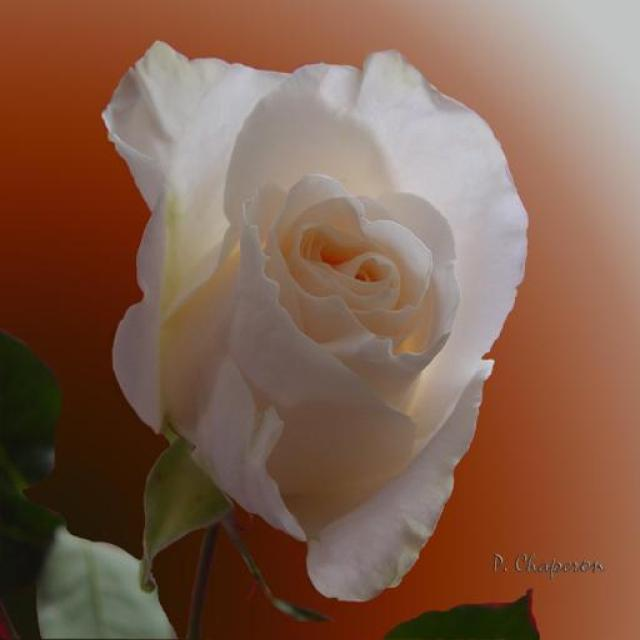rose: (88, 42, 552, 581)
